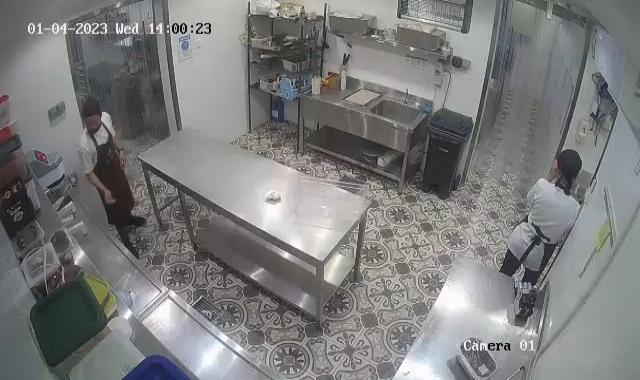no_hairnet: (555, 148, 583, 184), (79, 93, 102, 123)
